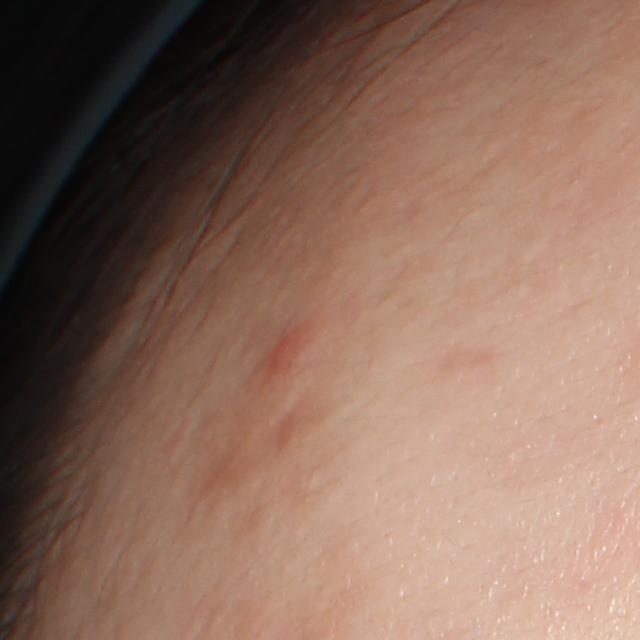papule: (256, 316, 334, 380)
